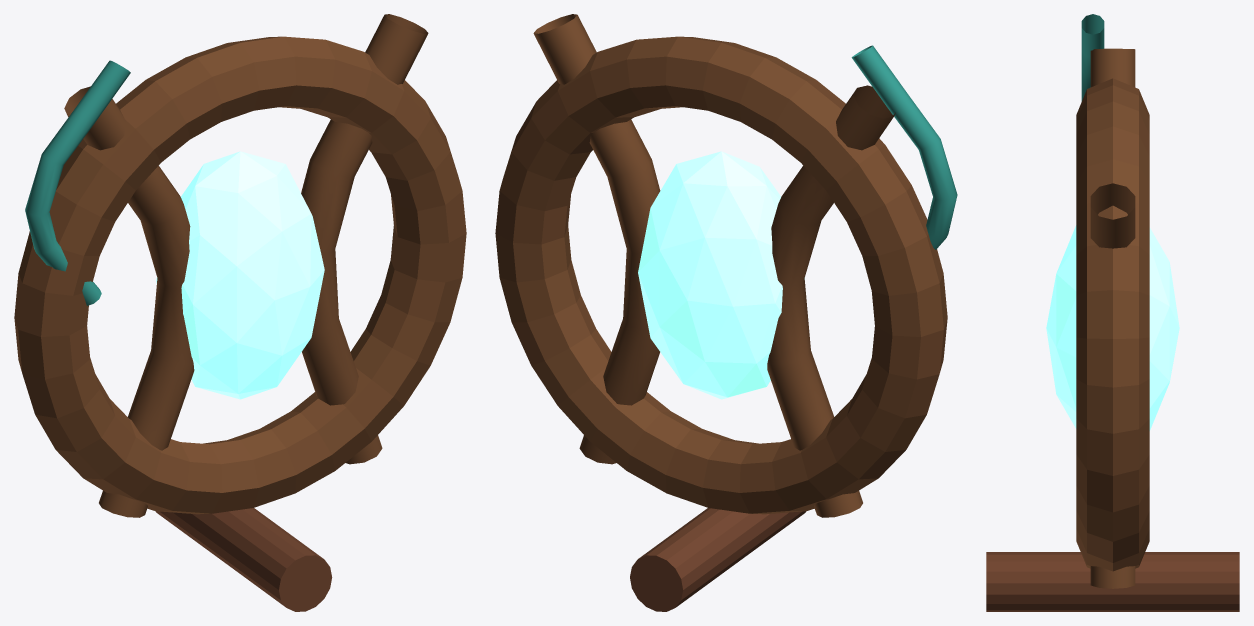
Rendered from offhand_verdant_totem.glb.
3 renders of one model, left to right at view 1: azimuth 30°, elevation 25°; view 2: azimuth 150°, elevation 25°; view 3: azimuth 270°, elevation 25°, orthographic. The views are drawn at different scales.
Visible parts, largest first — view 1: TotemRing, LifeCore, BranchA, BranchB, Handle, Vine; view 2: TotemRing, LifeCore, BranchA, BranchB, Handle, Vine; view 3: TotemRing, Handle, LifeCore, BranchB, BranchA, Vine.
Boxes of the visible parts, left/top/right/bottom form: TotemRing: left=14, top=36, right=466, bottom=514; LifeCore: left=156, top=151, right=324, bottom=399; BranchA: left=64, top=86, right=194, bottom=517; BranchB: left=301, top=14, right=428, bottom=464; Handle: left=155, top=508, right=332, bottom=611; Vine: left=25, top=60, right=130, bottom=305; TotemRing: left=495, top=36, right=947, bottom=514; LifeCore: left=638, top=151, right=804, bottom=399; BranchA: left=767, top=85, right=895, bottom=517; BranchB: left=533, top=14, right=660, bottom=464; Handle: left=630, top=508, right=806, bottom=611; Vine: left=851, top=45, right=957, bottom=249; TotemRing: left=1076, top=78, right=1149, bottom=571; Handle: left=986, top=552, right=1239, bottom=611; LifeCore: left=1046, top=225, right=1179, bottom=430; BranchB: left=1090, top=183, right=1135, bottom=588; BranchA: left=1090, top=48, right=1135, bottom=87; Vine: left=1081, top=14, right=1104, bottom=101.
Size of the model in its own units: 0.753 by 0.8753 by 0.38.
